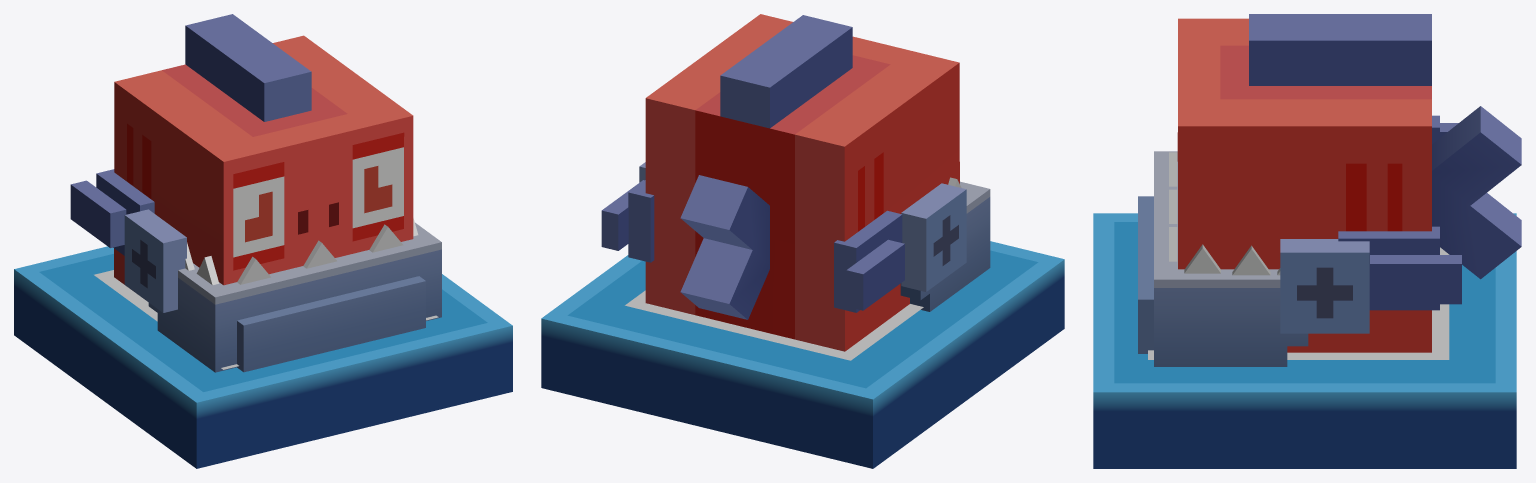
File: Tower_Toes_LVL3.fbx
The picture shows the model from 3 angles, left to right: view 1: azimuth 30°, elevation 25°; view 2: azimuth 150°, elevation 25°; view 3: azimuth 270°, elevation 25°; orthographic projection. The views are drawn at different scales.
Parts seen in each view (by area): view 1: Base, Body, Jaw, Fin_03, Screw1, Fin_02, Shadow; view 2: Base, Body, RearFin, Fin_03, Screw1, Fin_02, Jaw, Fin_01, Shadow; view 3: Base, Body, Jaw, Fin_03, RearFin, Screw2, Fin_01, Shadow.
Part boxes in pixels (x1,y1,x2,y2): Base: (14,246,512,468); Body: (114,35,413,285); Jaw: (148,218,441,372); Fin_03: (185,14,311,121); Screw1: (124,209,186,312); Fin_02: (70,169,154,255); Shadow: (94,270,438,369); Base: (541,241,1064,468); Body: (645,14,959,351); RearFin: (680,175,769,319); Fin_03: (720,15,852,128); Screw1: (901,183,966,291); Fin_02: (834,210,904,312); Jaw: (900,177,990,311); Fin_01: (601,180,654,262); Shadow: (625,290,923,360); Base: (1093,213,1516,468); Body: (1177,18,1431,352); Jaw: (1138,151,1308,366); Fin_03: (1249,14,1431,85); RearFin: (1432,106,1521,279); Screw2: (1280,239,1369,333); Fin_01: (1338,226,1461,310); Shadow: (1148,247,1449,359).
Size of the model in its own units: 100 by 91.76 by 101.
